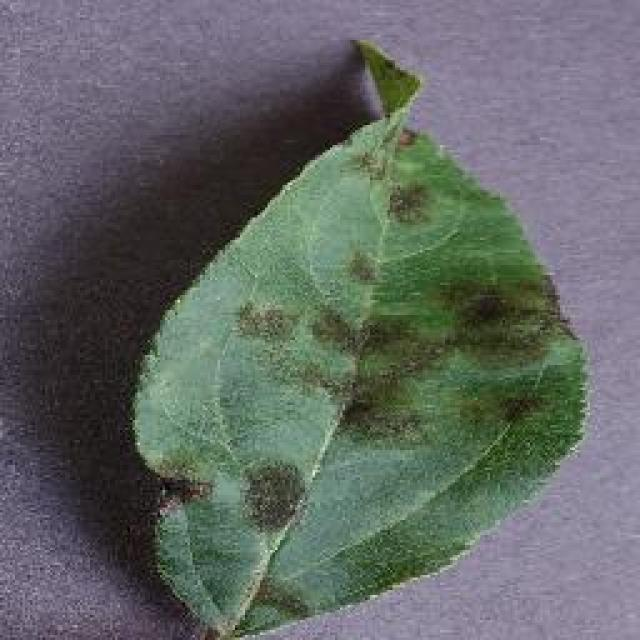apple scab disease: (125, 35, 593, 637)
